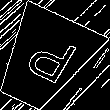P_SW: (12, 29, 76, 91)
